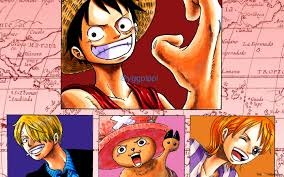chopper: (98, 115, 171, 170)
luffy: (61, 1, 157, 79)
